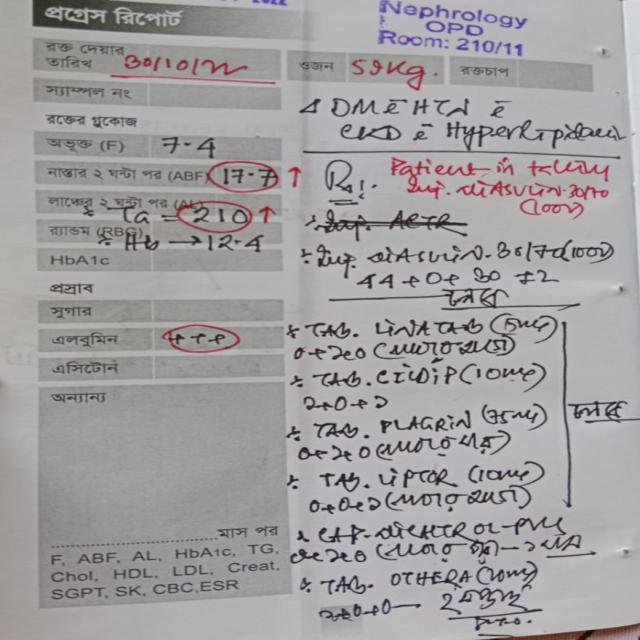Cildip: (371, 365, 467, 392)
Linatab: (361, 312, 491, 342)
Liptor: (376, 465, 467, 492)
Othera: (385, 569, 481, 589)
Plagrin: (377, 409, 480, 438)
